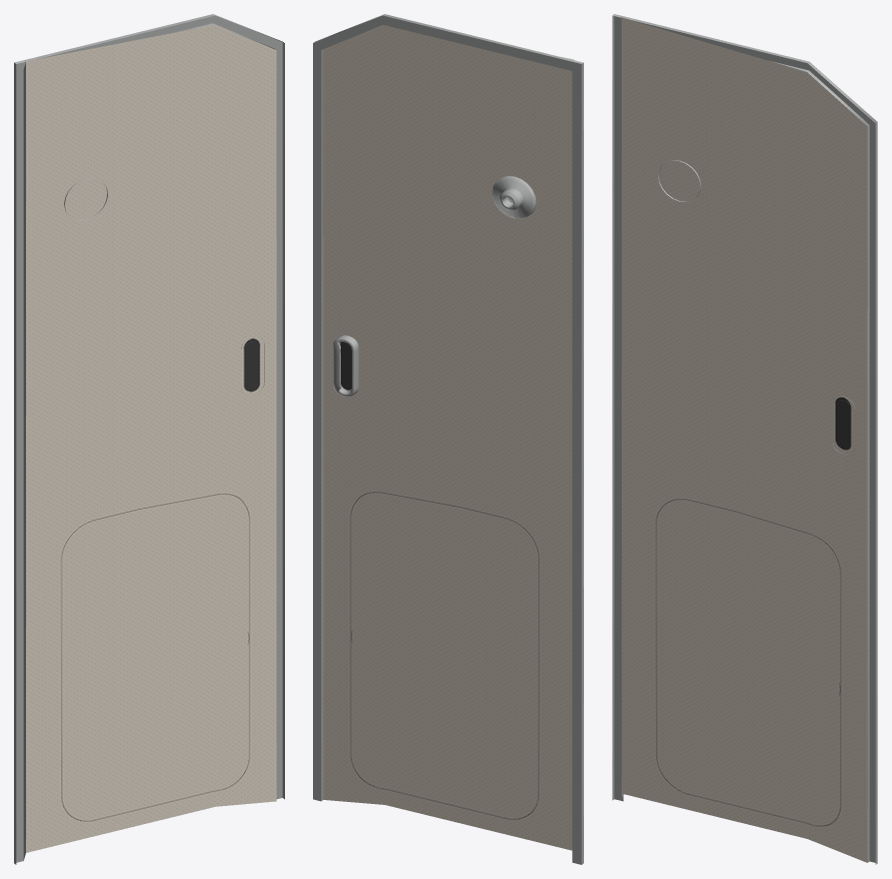
The model's file is Cockpit Door.fbx.
3 views of the same model, side by side, from view 1: azimuth 30°, elevation 25°; view 2: azimuth 150°, elevation 25°; view 3: azimuth 330°, elevation 25° (orthographic).
Visible parts, largest first — view 1: Cockpit_Door; view 2: Cockpit_Door; view 3: Cockpit_Door.
Part boxes in pixels (bbox=[...]): Cockpit_Door: bbox=[14, 14, 284, 864]; Cockpit_Door: bbox=[313, 14, 583, 864]; Cockpit_Door: bbox=[612, 14, 877, 864].
Size of the model in its own units: 66.46 by 190 by 3.26.
Materials: 1 (1 with a texture image).
